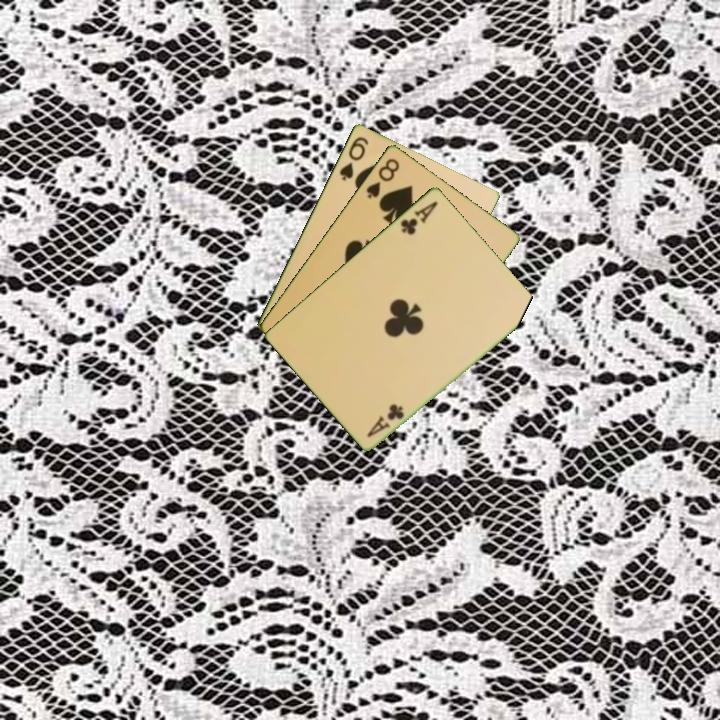6s: (336, 133, 372, 183)
8s: (362, 154, 402, 201)
Ac: (397, 197, 441, 237), (363, 400, 407, 440)
